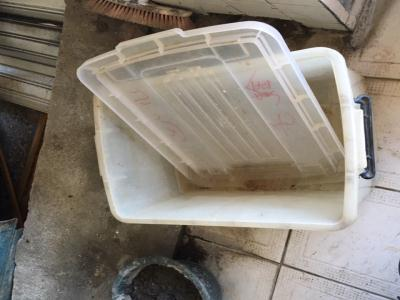box: (91, 46, 379, 237)
